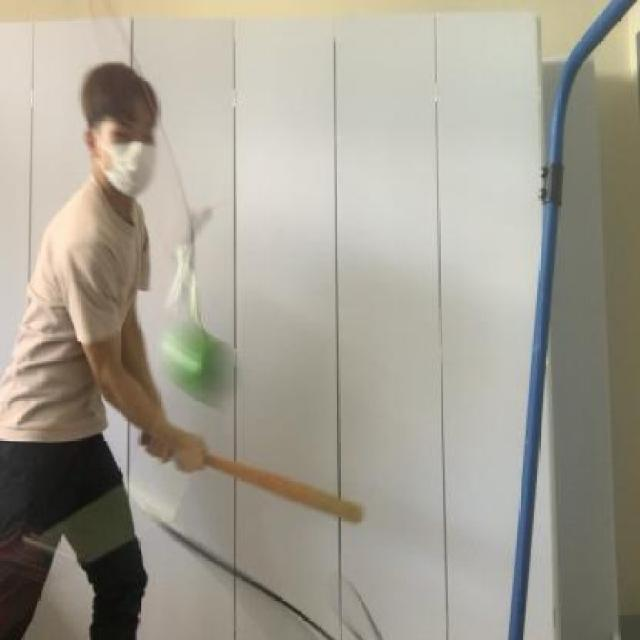baseball: (158, 308, 244, 417)
